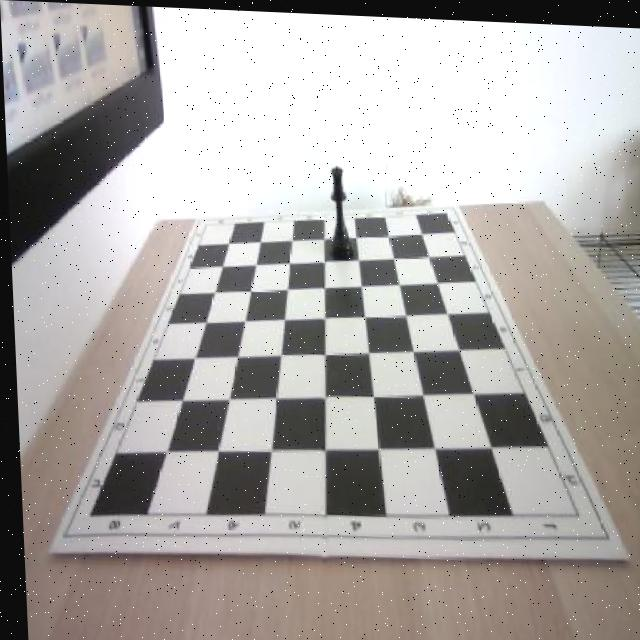black-pawn: (323, 159, 353, 257)
